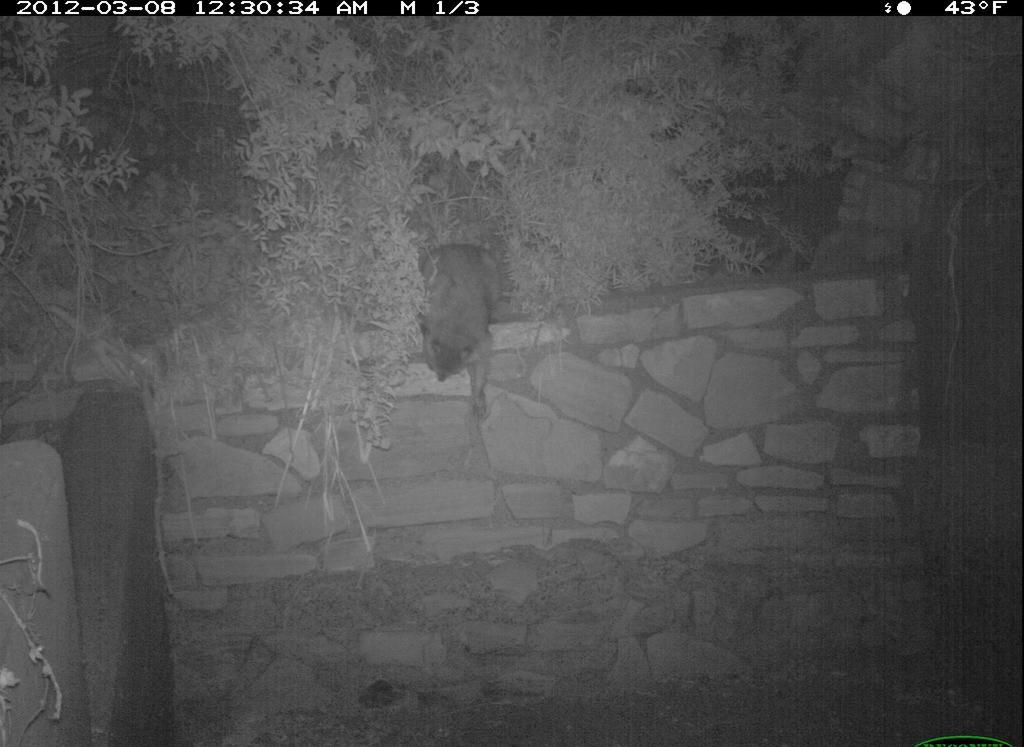raccoon: (410, 200, 511, 429)
